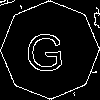G: (25, 25, 64, 72)
